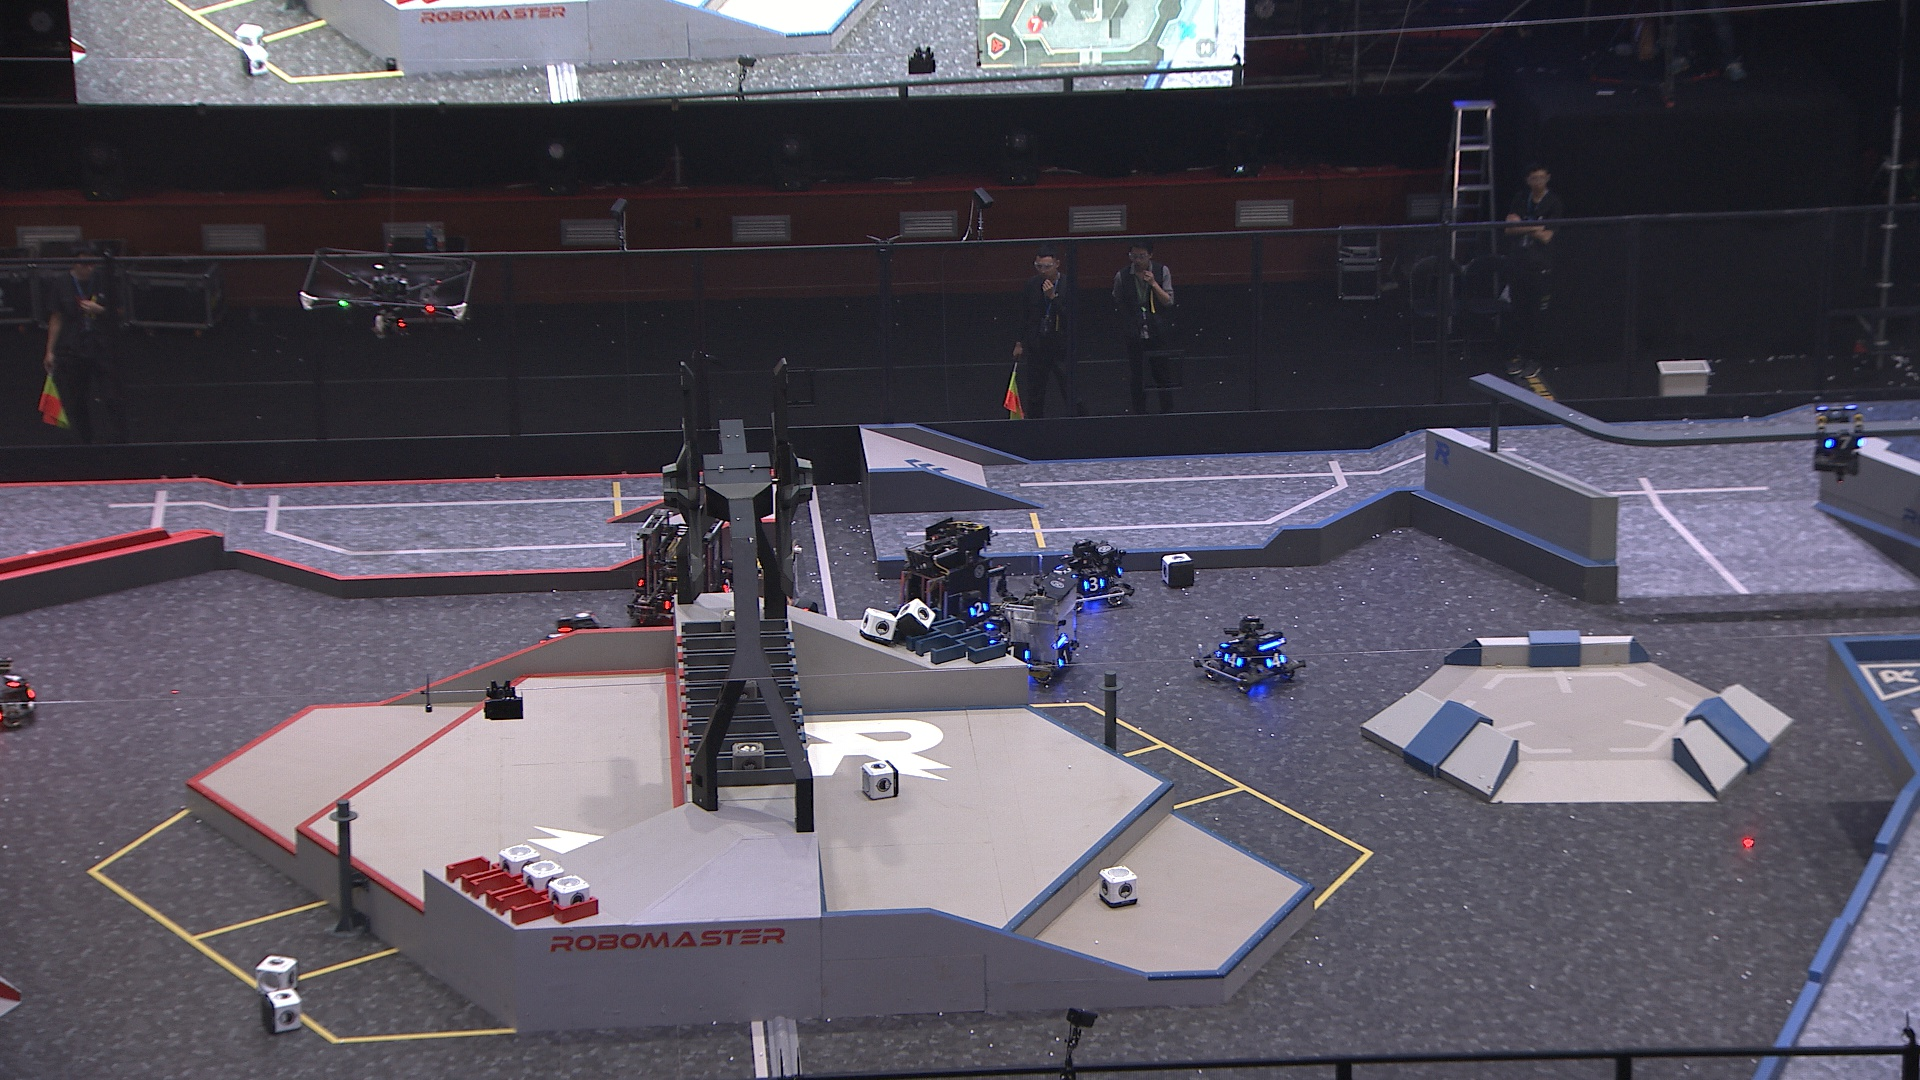armor: (1822, 433, 1865, 451), (541, 626, 568, 645), (1218, 633, 1244, 651), (1002, 645, 1033, 659), (1083, 575, 1105, 593), (1058, 644, 1073, 669), (1267, 651, 1287, 670), (1221, 651, 1242, 669), (1055, 562, 1073, 579), (969, 600, 988, 617), (5, 670, 24, 687)
car: (626, 504, 746, 636), (889, 517, 996, 641), (982, 580, 1083, 688), (723, 534, 825, 632), (1195, 613, 1304, 698), (1048, 534, 1134, 615), (537, 605, 624, 680)
watcher: (1809, 400, 1869, 481)
